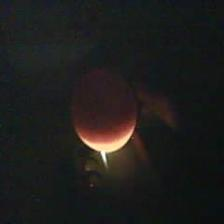fertile: (69, 64, 139, 154)
